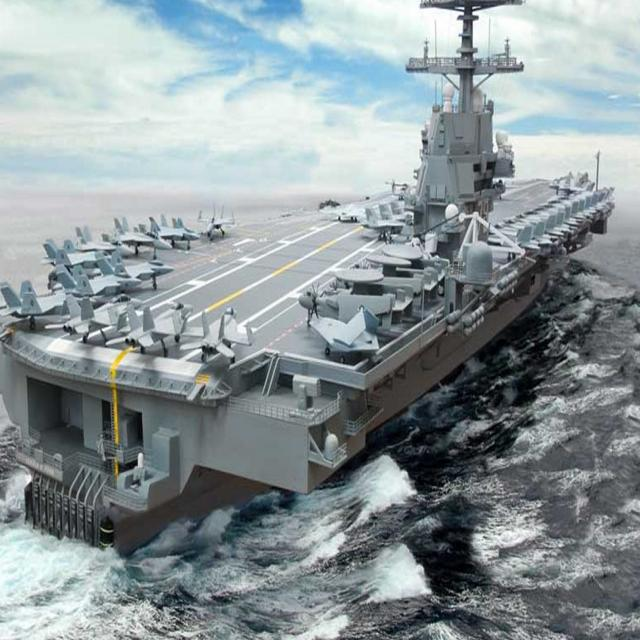Portanaves: (1, 1, 626, 554)
